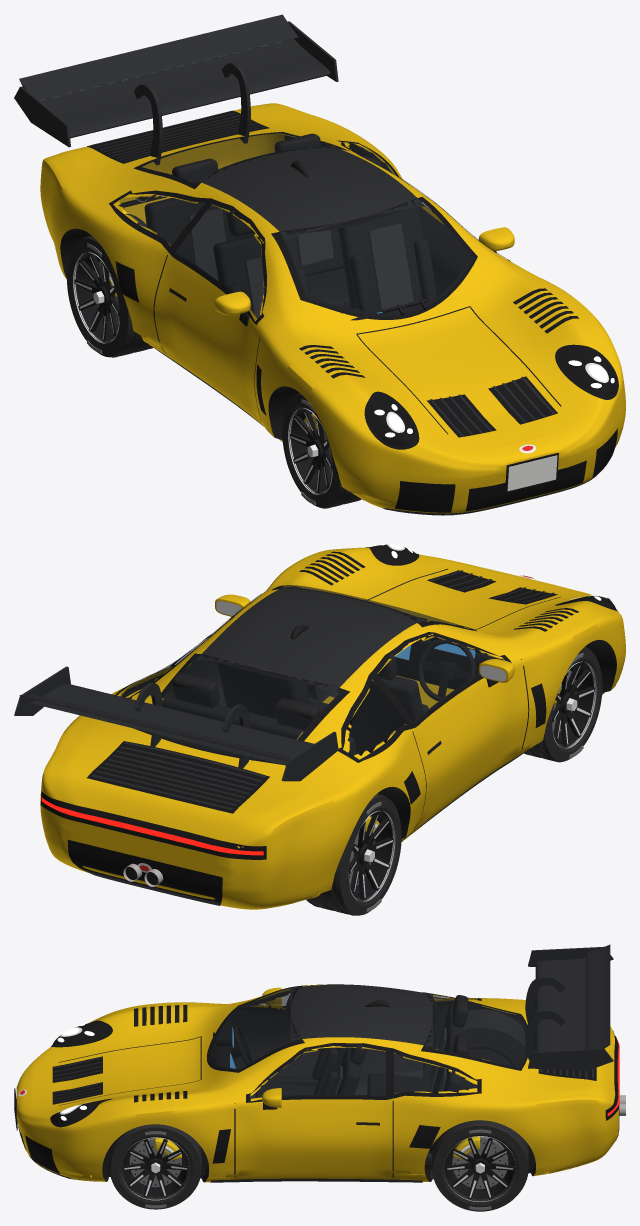
3 renders of one model, top to bottom at view 1: azimuth 30°, elevation 25°; view 2: azimuth 150°, elevation 25°; view 3: azimuth 270°, elevation 25°, orthographic. The views are drawn at different scales.
Visible parts, largest first — view 1: Body, Wheel_RR, Wheel_FR; view 2: Body, Wheel_RR, Wheel_FR; view 3: Body, Wheel_RL, Wheel_FL, Wheel_RR.
Part boxes in pixels (x1,y1,x2,y2): Body: (14,14,625,515); Wheel_RR: (67,235,153,357); Wheel_FR: (282,393,361,508); Body: (14,544,625,909); Wheel_RR: (306,794,401,915); Wheel_FR: (524,647,602,762); Body: (14,944,625,1182); Wheel_RL: (432,1120,528,1211); Wheel_FL: (109,1124,201,1209); Wheel_RR: (468,1038,520,1067).
Size of the model in its own units: 2.01 by 1.4 by 4.64.
